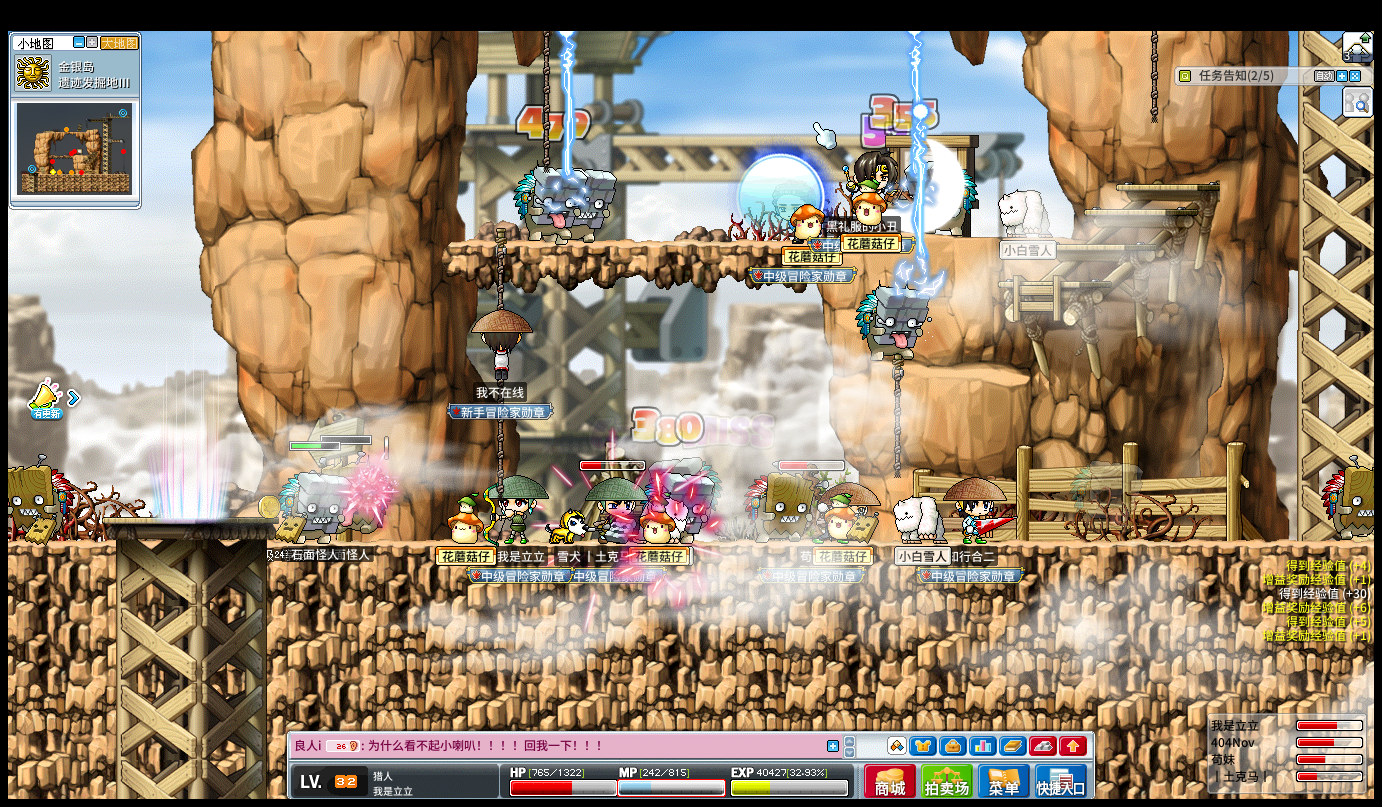floor: (267, 539, 1374, 550), (452, 237, 825, 250), (926, 363, 1032, 385), (103, 515, 277, 525), (920, 233, 1099, 242), (6, 538, 114, 551), (996, 279, 1111, 289), (1079, 207, 1192, 217), (1117, 184, 1221, 192)
monster: (744, 464, 822, 544), (854, 285, 930, 363), (514, 162, 588, 241), (6, 458, 72, 543), (278, 472, 350, 544), (1318, 453, 1375, 540), (573, 165, 617, 242), (673, 469, 720, 539)
rope: (889, 356, 903, 480), (542, 27, 550, 170), (492, 230, 506, 311), (1148, 30, 1157, 123)
